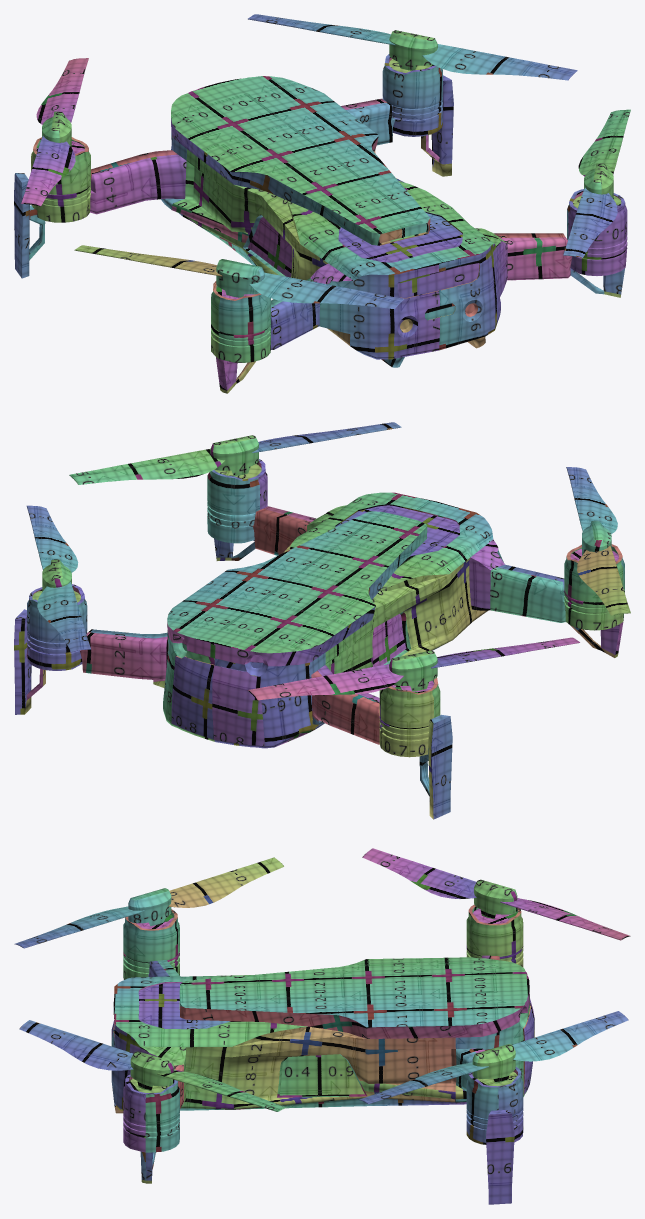
File: Drone_base.fbx
3 renders of one model, top to bottom at view 1: azimuth 30°, elevation 25°; view 2: azimuth 150°, elevation 25°; view 3: azimuth 270°, elevation 25°, orthographic. The views are drawn at different scales.
Parts seen in each view (by area): view 1: polySurface24, polySurface18, polySurface12, polySurface9, polySurface23, polySurface22, polySurface15, polySurface10, polySurface21, polySurface13, polySurface19, polySurface20 (+3 smaller); view 2: polySurface24, polySurface15, polySurface10, polySurface22, polySurface14, polySurface20, polySurface18, polySurface12, polySurface21, polySurface11, polySurface16, polySurface9 (+3 smaller); view 3: polySurface24, polySurface21, polySurface14, polySurface20, polySurface23, polySurface9, polySurface15, polySurface18, polySurface10, polySurface12, polySurface16, polySurface13 (+2 smaller).
Part boxes in pixels (box(x1,y1,x2,y2)): polySurface24: box(31, 54, 627, 393); polySurface18: box(249, 272, 404, 309); polySurface12: box(422, 44, 577, 80); polySurface9: box(21, 136, 75, 206); polySurface23: box(563, 187, 617, 257); polySurface22: box(14, 173, 45, 278); polySurface15: box(578, 109, 630, 176); polySurface10: box(36, 58, 88, 124); polySurface21: box(421, 75, 453, 176); polySurface13: box(389, 30, 437, 70); polySurface19: box(216, 259, 264, 297); polySurface20: box(74, 245, 222, 276); polySurface24: box(27, 459, 624, 757); polySurface15: box(69, 448, 225, 484); polySurface10: box(248, 664, 403, 700); polySurface22: box(419, 714, 452, 819); polySurface14: box(37, 582, 90, 651); polySurface20: box(577, 545, 630, 615); polySurface18: box(566, 467, 617, 534); polySurface12: box(26, 505, 78, 572); polySurface21: box(14, 609, 45, 714); polySurface11: box(389, 650, 437, 691); polySurface16: box(210, 435, 258, 476); polySurface9: box(431, 637, 579, 668); polySurface24: box(111, 905, 534, 1183); polySurface21: box(486, 1110, 514, 1204); polySurface14: box(512, 1011, 628, 1061); polySurface20: box(168, 857, 283, 907); polySurface23: box(19, 1020, 133, 1070); polySurface9: box(362, 848, 476, 898); polySurface15: box(157, 1069, 287, 1111); polySurface18: box(14, 906, 144, 948); polySurface10: box(500, 898, 630, 940); polySurface12: box(358, 1062, 488, 1104); polySurface16: box(130, 1051, 174, 1090); polySurface13: box(472, 1044, 515, 1083).
Bounding box in the file's own units: 14.5 × 3.65 × 14.67.
1 material, 1 textured.
